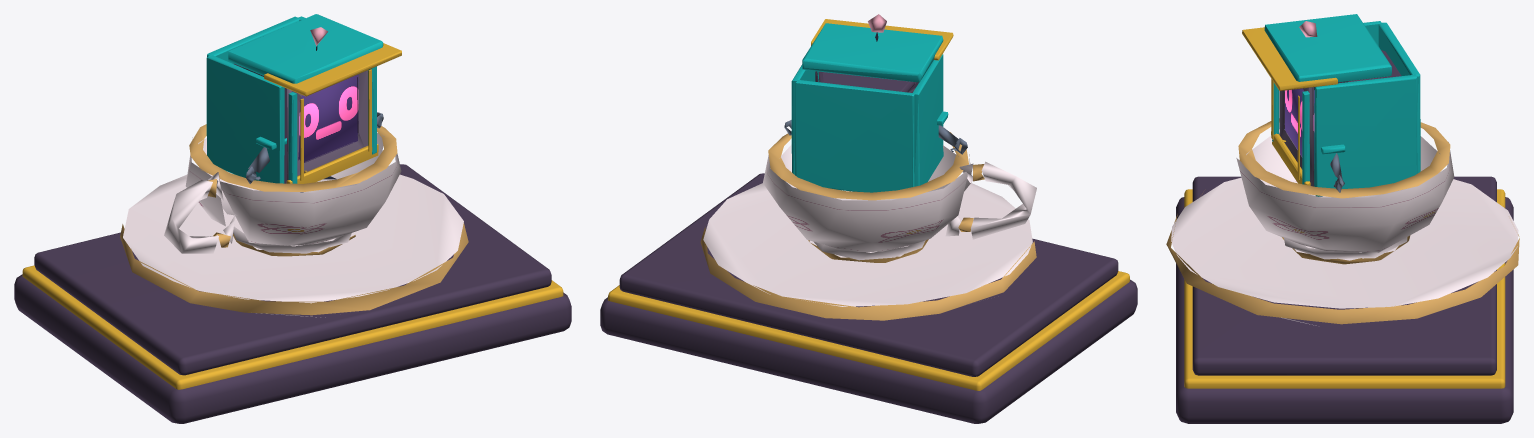
File: kart.outfit.pit-crew.lod1.glb
The picture shows the model from 3 angles, left to right: view 1: azimuth 30°, elevation 25°; view 2: azimuth 150°, elevation 25°; view 3: azimuth 270°, elevation 25°; orthographic projection. The views are drawn at different scales.
Visible parts, largest first — view 1: emi_teacup_mesh, stand_display_top, stand_display_base, stand_brass_band, jacket_side.001, visor_crown, cap_brim, waist_band, front_open_edge.001, jacket_back; view 2: emi_teacup_mesh, stand_display_top, stand_display_base, jacket_back, stand_brass_band, visor_crown, jacket_side.001, cap_brim, jacket_side; view 3: emi_teacup_mesh, stand_display_top, stand_display_base, jacket_side, stand_brass_band, visor_crown, cap_brim, jacket_back, front_open_edge, waist_band.
Boxes of the visible parts, x1,y1,x2,y2 form: emi_teacup_mesh: [120, 27, 468, 317]; stand_display_top: [34, 164, 551, 375]; stand_display_base: [14, 274, 571, 423]; stand_brass_band: [22, 265, 563, 389]; jacket_side.001: [206, 55, 284, 183]; visor_crown: [228, 14, 383, 83]; cap_brim: [264, 43, 401, 96]; waist_band: [286, 144, 378, 183]; front_open_edge.001: [288, 92, 297, 183]; jacket_back: [207, 16, 299, 63]; emi_teacup_mesh: [700, 14, 1036, 320]; stand_display_top: [619, 173, 1118, 376]; stand_display_base: [600, 279, 1137, 423]; jacket_back: [794, 80, 914, 192]; stand_brass_band: [608, 271, 1129, 390]; visor_crown: [802, 23, 943, 82]; jacket_side.001: [912, 54, 943, 186]; cap_brim: [811, 19, 953, 60]; jacket_side: [791, 64, 819, 174]; emi_teacup_mesh: [1166, 21, 1519, 325]; stand_display_top: [1192, 176, 1496, 375]; stand_display_base: [1176, 197, 1513, 423]; jacket_side: [1314, 74, 1417, 196]; stand_brass_band: [1184, 189, 1505, 388]; visor_crown: [1264, 14, 1391, 82]; cap_brim: [1242, 27, 1337, 90]; jacket_back: [1378, 22, 1420, 172]; front_open_edge: [1302, 91, 1309, 184]; waist_band: [1271, 131, 1310, 185].
Bounding box in the file's own units: 0.64 × 0.4665 × 0.4779.
4 materials, 2 textured.
